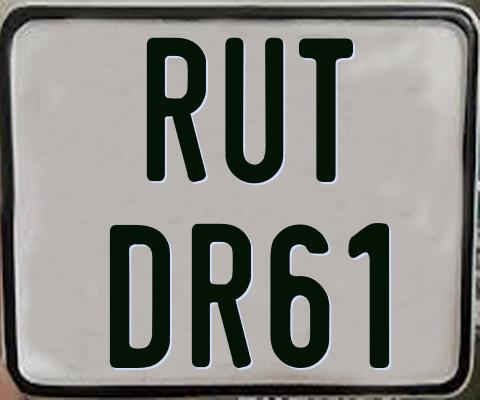1: (347, 223, 388, 371)
6: (269, 221, 334, 366)
D: (109, 223, 169, 366)
R: (190, 221, 254, 368), (147, 38, 209, 183)
T: (296, 35, 353, 184)
U: (224, 36, 283, 185)
